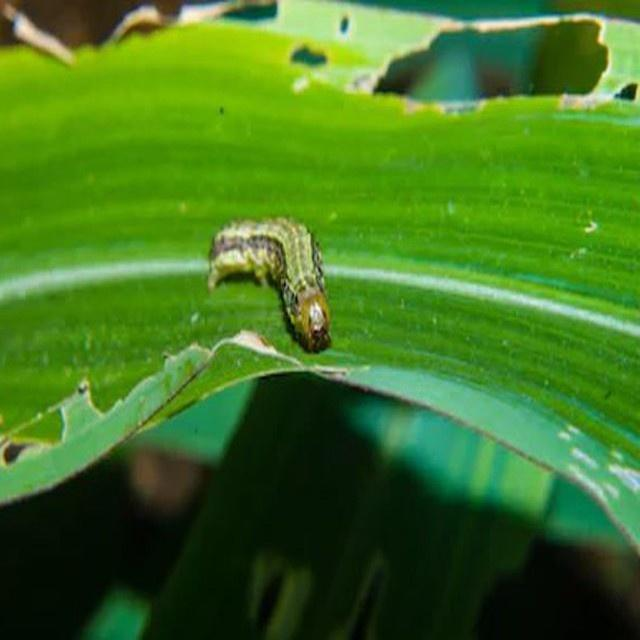gusano_cogollero: (206, 214, 336, 354)
